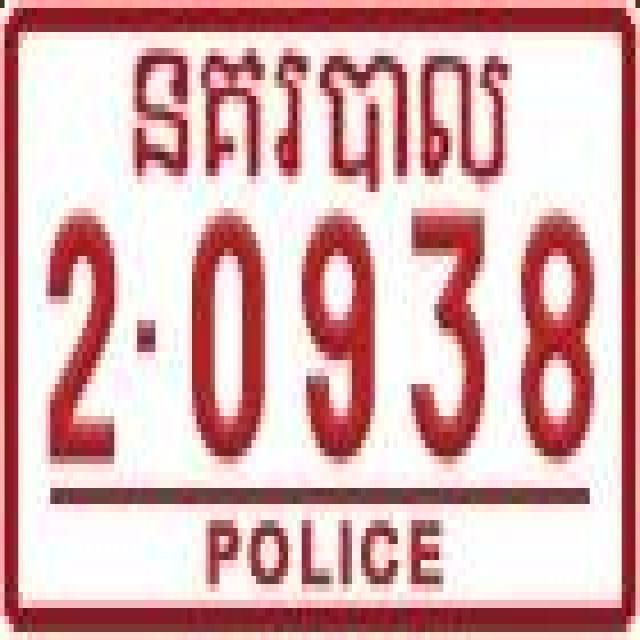Police: (128, 32, 512, 200)
